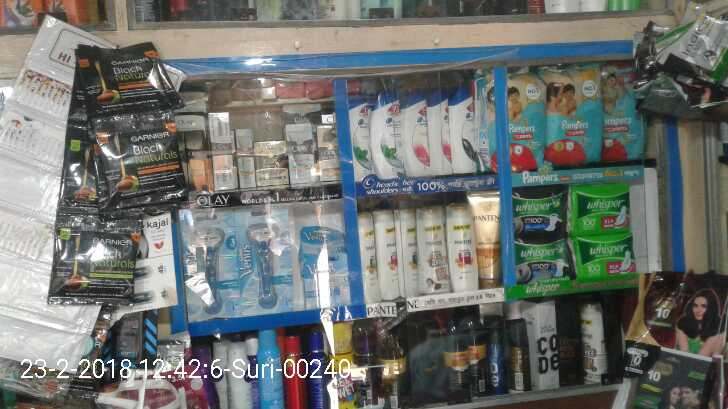venus: (182, 213, 239, 312), (239, 208, 291, 312), (301, 227, 351, 306)
